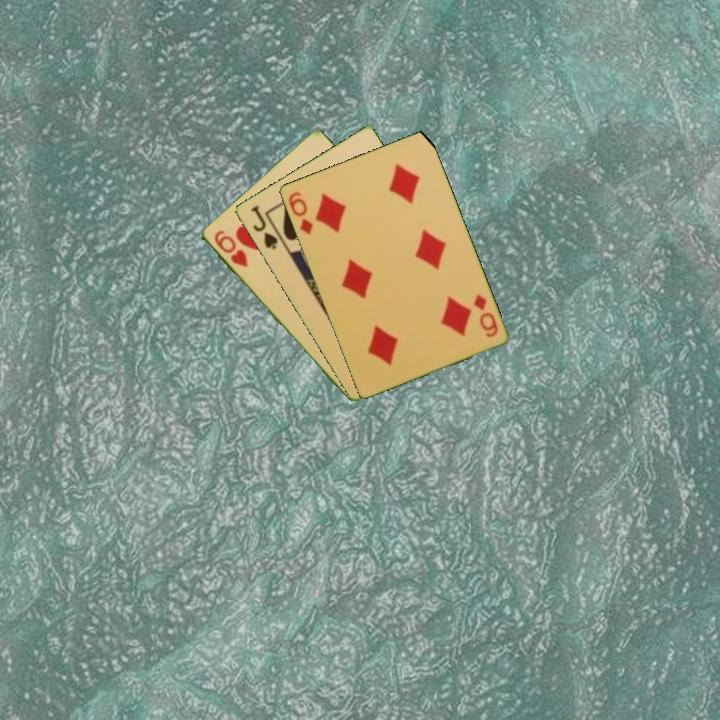6d: (285, 188, 316, 238), (470, 290, 501, 340)
6h: (210, 226, 251, 270)
Js: (247, 202, 280, 252)
